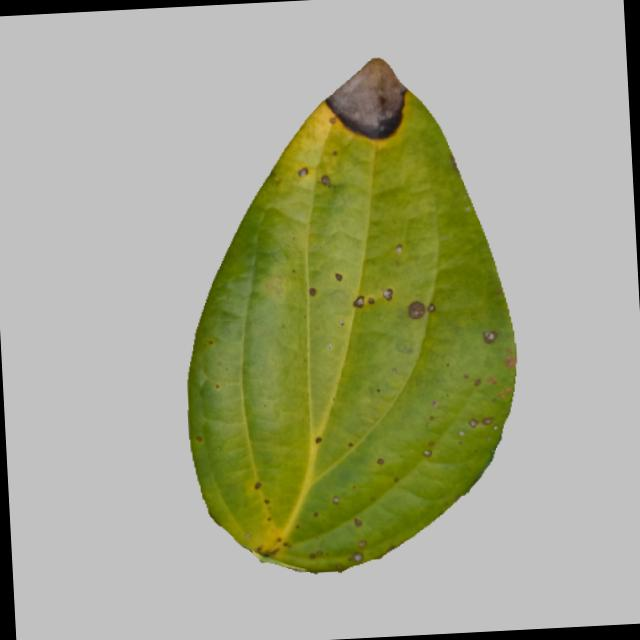leaf-blight: (152, 46, 540, 576)
